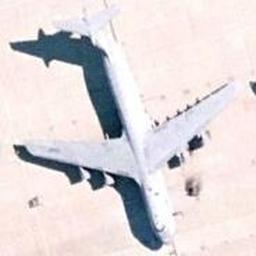Airplane: (18, 10, 242, 244)
